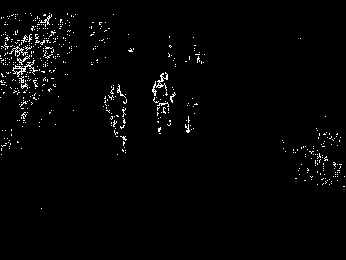person: (96, 83, 134, 156), (147, 72, 178, 136)
